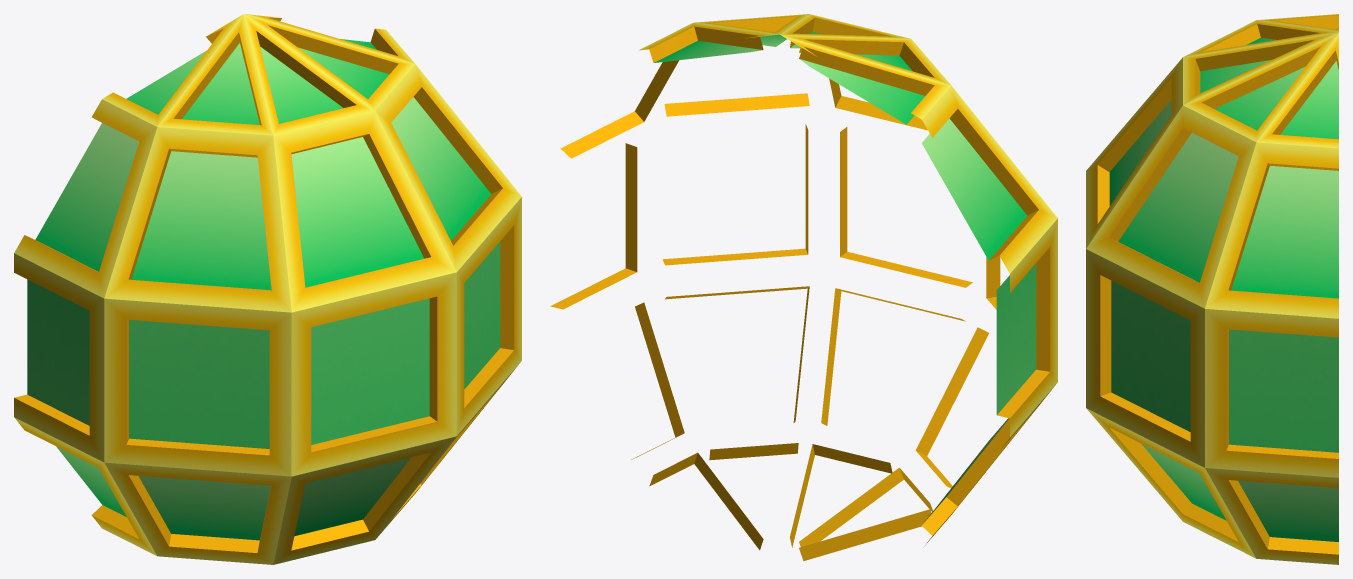
3 renders of one model, left to right at view 1: azimuth 30°, elevation 25°; view 2: azimuth 150°, elevation 25°; view 3: azimuth 270°, elevation 25°, orthographic. The views are drawn at different scales.
Parts seen in each view (by area): view 1: Sphere.003; view 2: Sphere.003; view 3: Sphere.003.
Boxes of the visible parts, x1,y1,x2,y2 form: Sphere.003: (14,14,521,564); Sphere.003: (550,14,1057,561); Sphere.003: (1086,14,1338,564).
Bounding box in the file's own units: 1.19 × 1.31 × 0.5829.
1 material, 1 textured.
